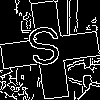S: (25, 25, 65, 76)
